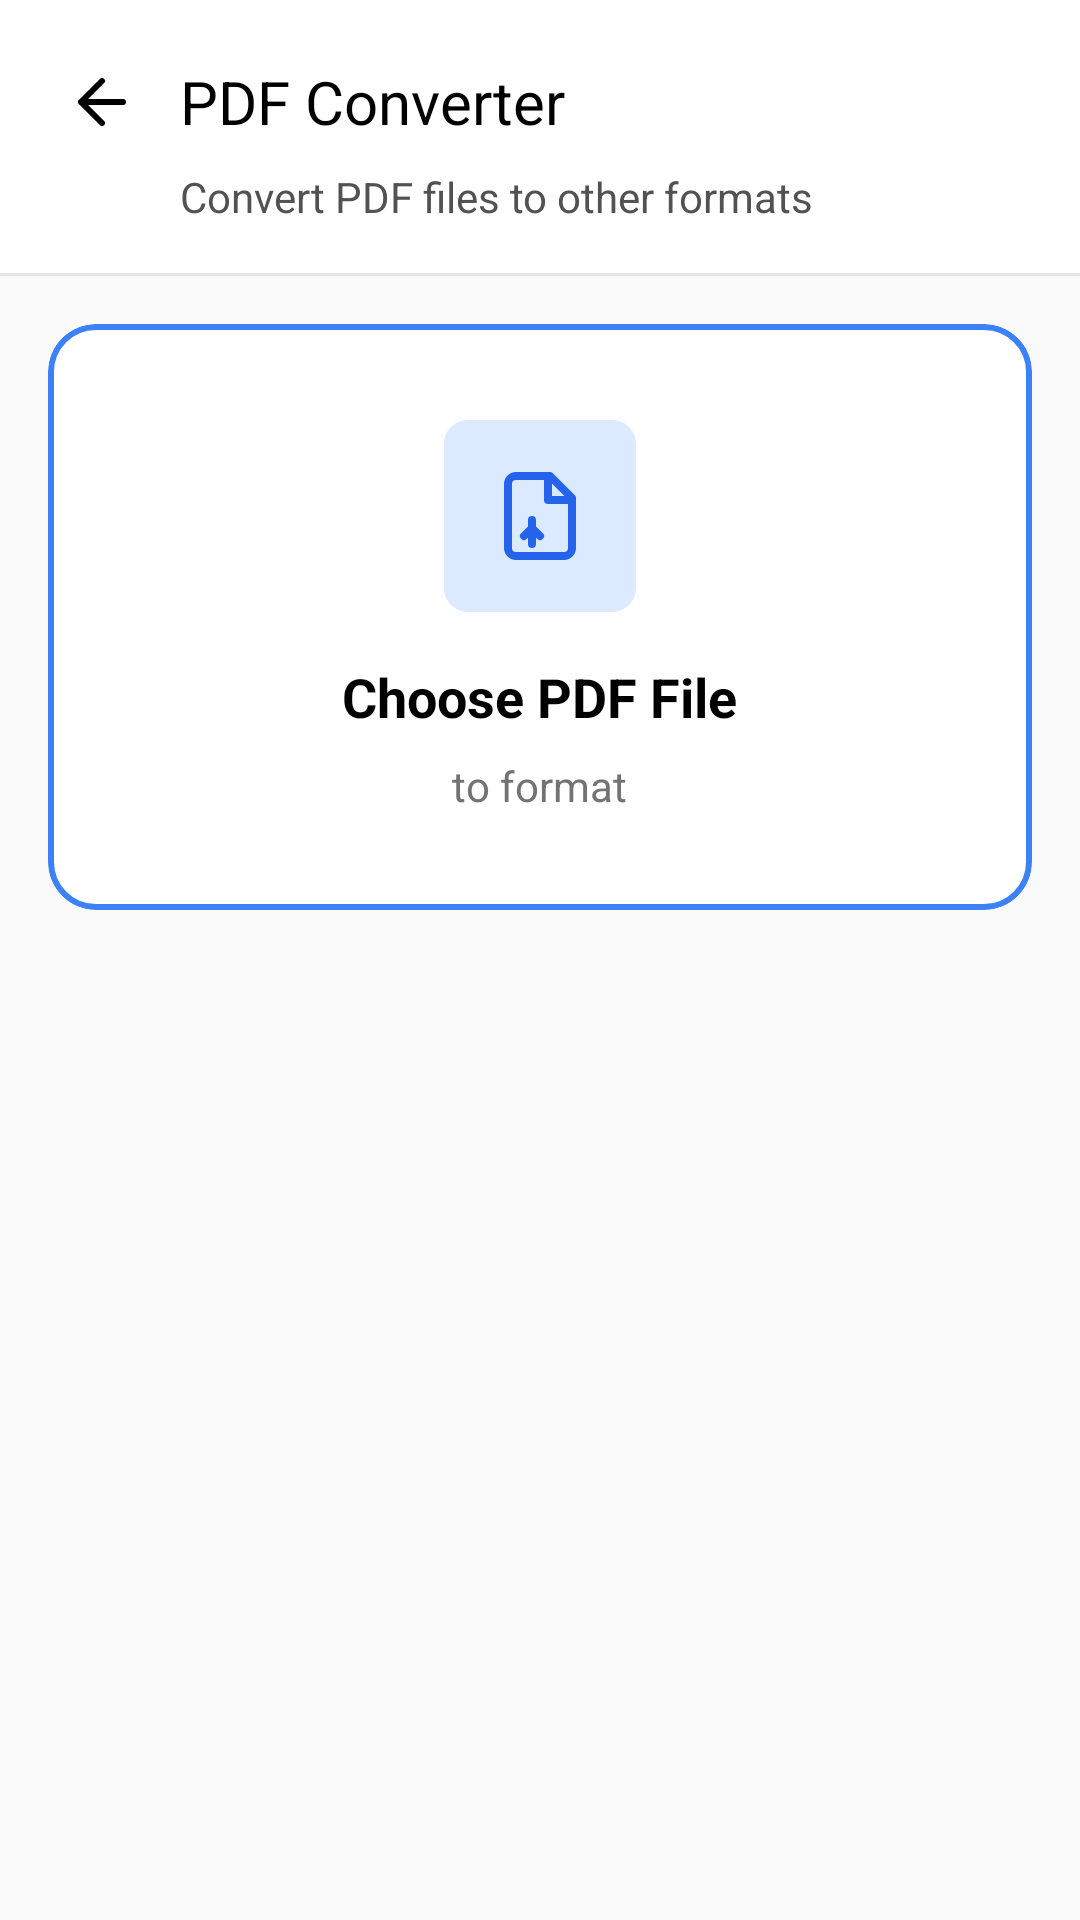

Icons on this 1080 x 1920 Android screen, each with its box as Rect(x1, y1, x2, y2):
arrow left: Rect(78, 78, 126, 126)
file type: Rect(504, 472, 576, 560)
